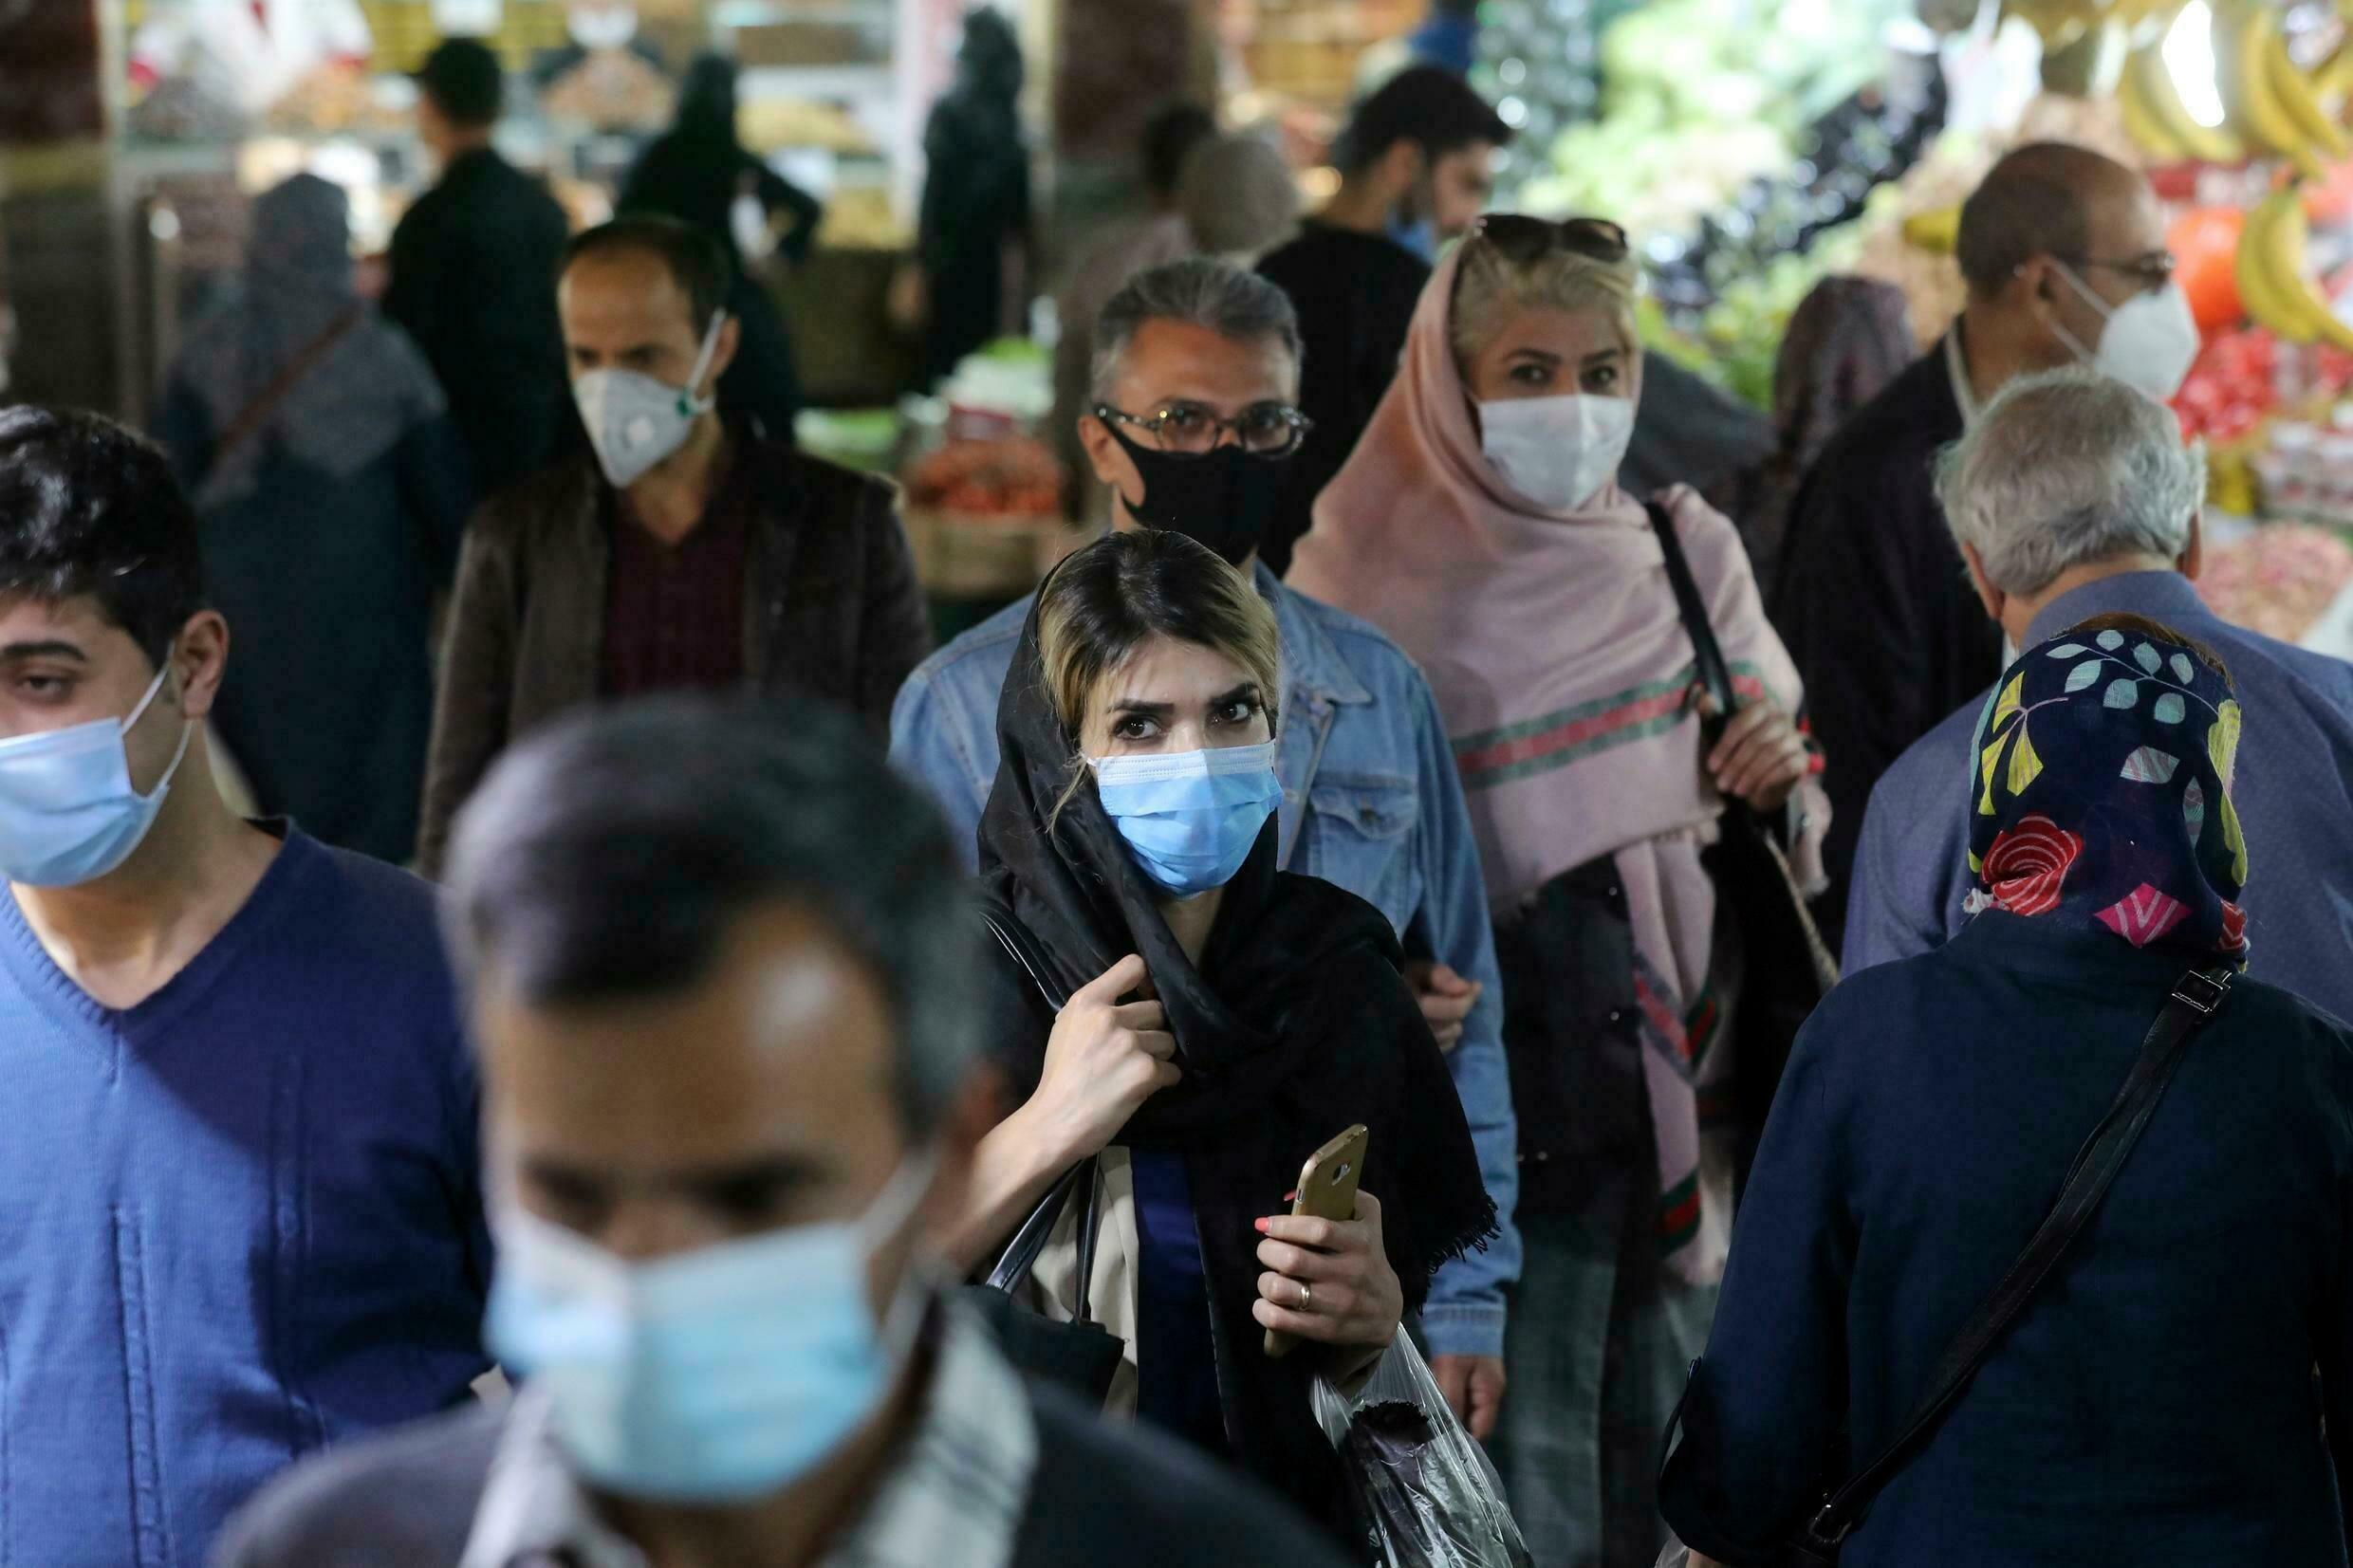with_mask: (467, 1026, 855, 1443), (3, 592, 126, 880), (2059, 208, 2217, 387), (1106, 657, 1251, 849), (1488, 315, 1624, 501), (1158, 370, 1265, 543), (585, 273, 674, 482)
